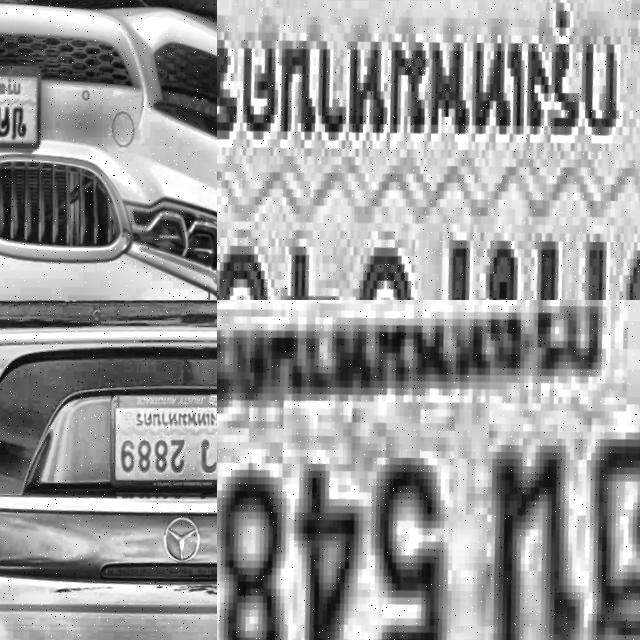license-plate: (217, 300, 640, 640), (217, 0, 640, 300), (107, 376, 217, 494), (0, 52, 50, 154)
